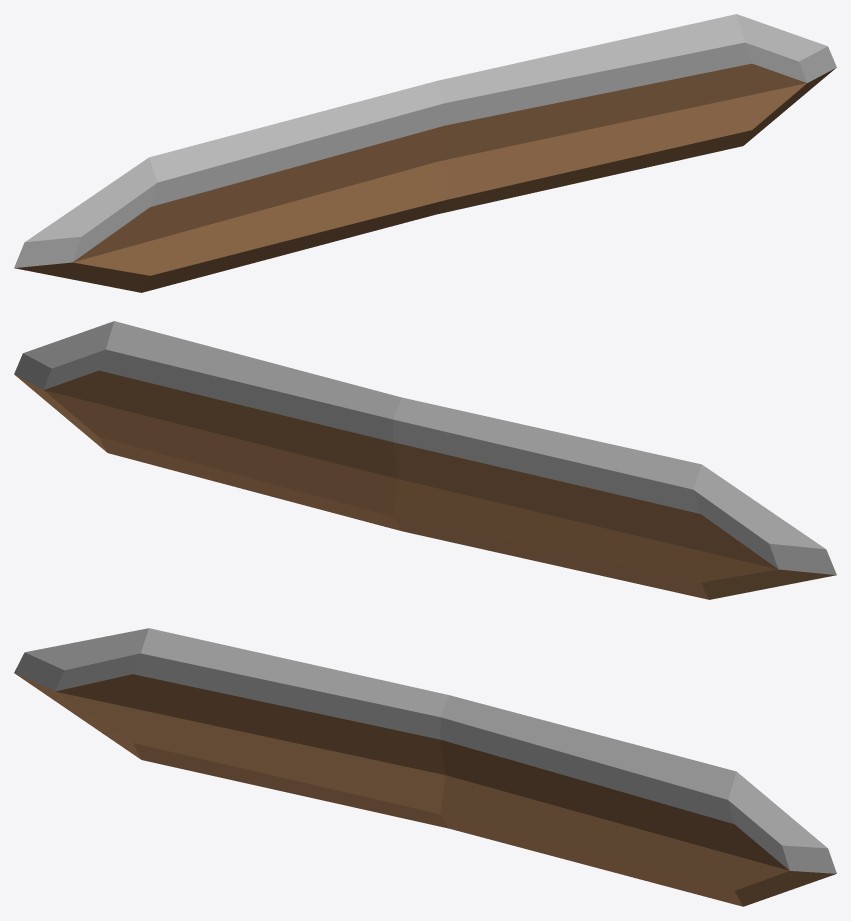
The model's file is Plank_1 Winter.fbx.
The picture shows the model from 3 angles, top to bottom: view 1: azimuth 30°, elevation 25°; view 2: azimuth 150°, elevation 25°; view 3: azimuth 330°, elevation 25°; orthographic projection.
Visible parts, largest first — view 1: PlankWinter_mesh; view 2: PlankWinter_mesh; view 3: PlankWinter_mesh.
Boxes of the visible parts, x1,y1,x2,y2 form: PlankWinter_mesh: (14,14,836,292); PlankWinter_mesh: (14,321,836,599); PlankWinter_mesh: (14,628,836,906).
Bounding box in the file's own units: 411 × 63.78 × 20.83.
